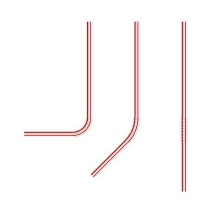drinking_straw: (85, 19, 154, 181), (20, 18, 99, 141), (171, 17, 195, 197)
